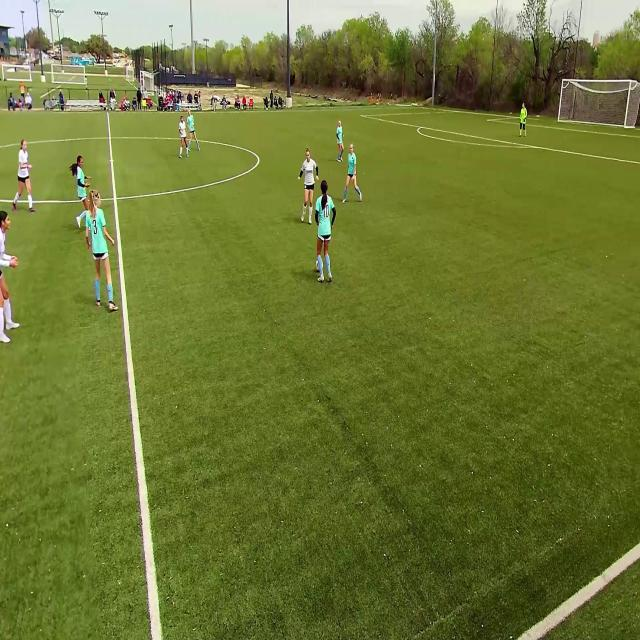ball: (315, 259, 325, 272)
team1: (84, 193, 116, 311), (314, 184, 335, 286), (70, 154, 90, 213), (344, 144, 361, 202), (336, 119, 346, 165), (189, 112, 199, 150)
team2: (2, 205, 20, 310), (14, 138, 36, 215), (301, 150, 319, 225), (177, 115, 187, 157)
